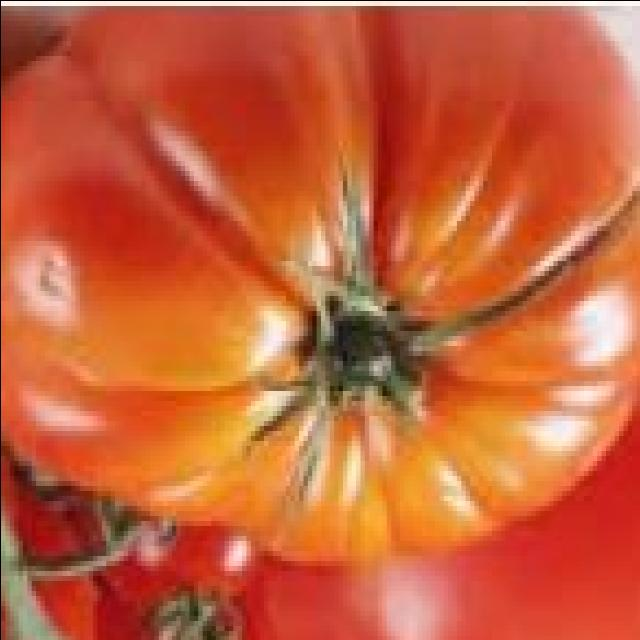Healthy: (0, 15, 640, 555), (132, 520, 496, 640)
